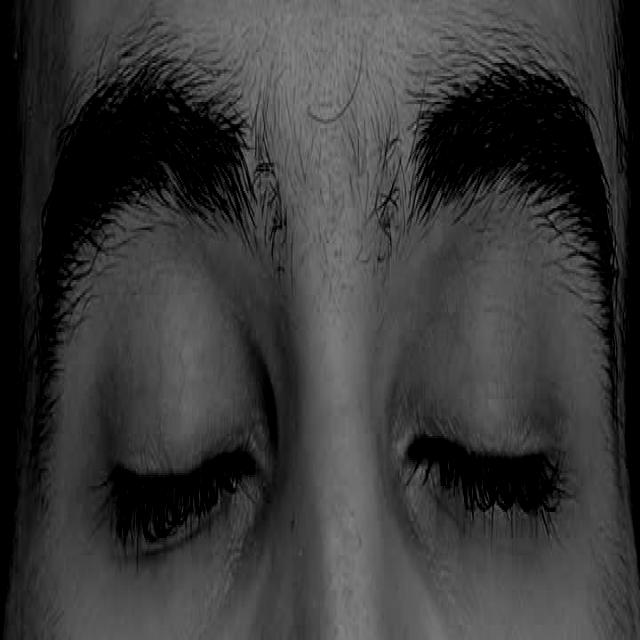real: (38, 180, 602, 612)
